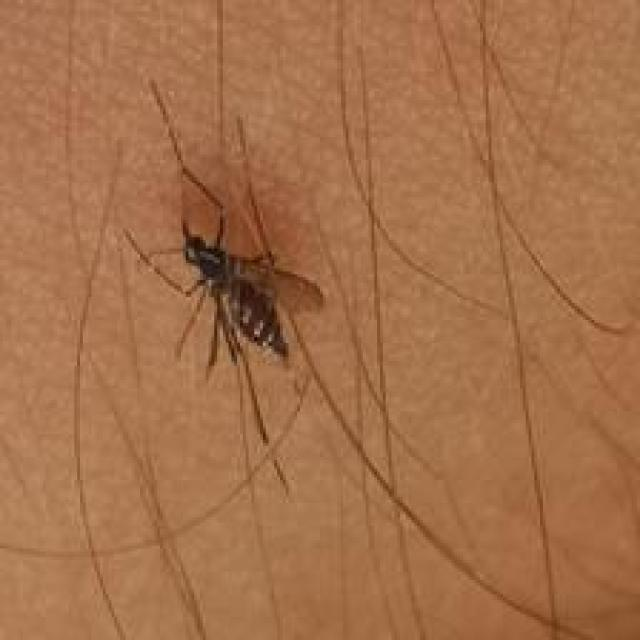Aedes albopictus: (122, 78, 327, 496)
